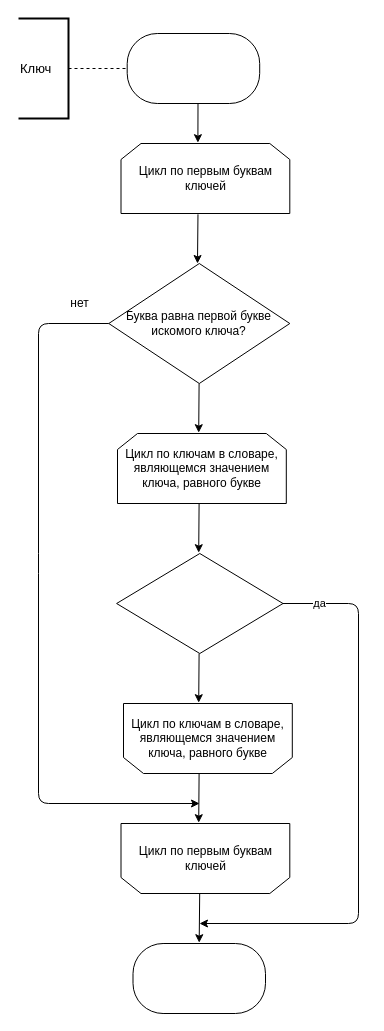
The diagram is 384 pixels wide and 1031 high, and some of its shapes have lost their labels. The centre of each missing label's shape, as x and y in pixels:
Ключ равен искомому ключу?: the point at 199,603
Конец: the point at 199,978
Начало: the point at 193,68
